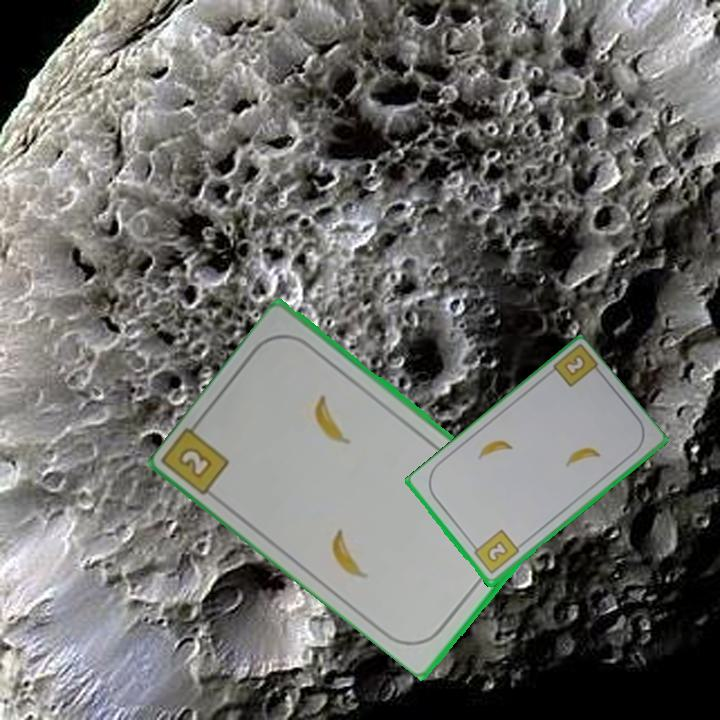2b: (468, 527, 522, 577), (175, 443, 216, 482), (560, 351, 589, 379)
